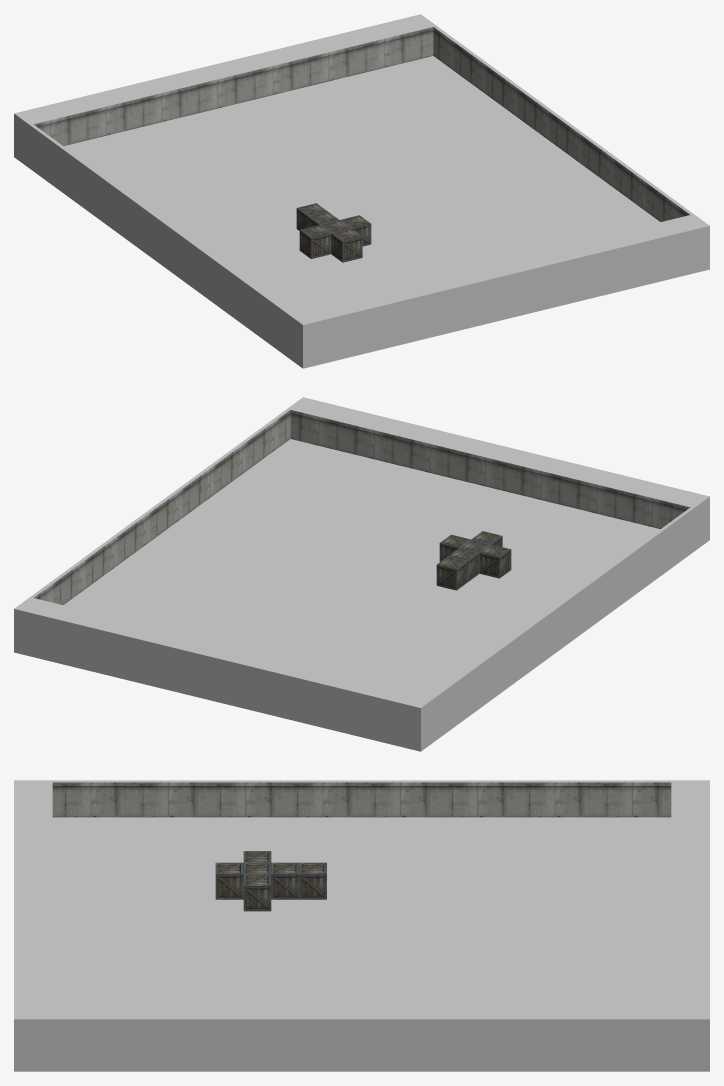
Rendered from map.obj.
3 views of the same model, one above another, from view 1: azimuth 30°, elevation 25°; view 2: azimuth 150°, elevation 25°; view 3: azimuth 270°, elevation 25° (orthographic). The views are drawn at different scales.
Visible parts, largest first — view 1: worldspawn_4541, worldspawn_4621, worldspawn_4600, worldspawn_4579, worldspawn_4593, worldspawn_3577, worldspawn_3591; view 2: worldspawn_4541, worldspawn_4600, worldspawn_4621, worldspawn_4579, worldspawn_4593, worldspawn_3577, worldspawn_3591; view 3: worldspawn_4541, worldspawn_4593, worldspawn_4579, worldspawn_4600, worldspawn_4621, worldspawn_3577, worldspawn_3584.
Part boxes in pixels (box(x1,y1,x2,y2)): worldspawn_4541: box(63, 56, 660, 312); worldspawn_4621: box(287, 214, 709, 368); worldspawn_4600: box(14, 14, 436, 168); worldspawn_4579: box(30, 124, 290, 356); worldspawn_4593: box(433, 26, 693, 221); worldspawn_3577: box(296, 203, 362, 262); worldspawn_3591: box(299, 225, 331, 258); worldspawn_4541: box(63, 439, 660, 695); worldspawn_4600: box(14, 597, 436, 751); worldspawn_4621: box(287, 397, 709, 551); worldspawn_4579: box(433, 507, 693, 739); worldspawn_4593: box(30, 409, 290, 604); worldspawn_3577: box(436, 531, 502, 590); worldspawn_3591: box(479, 544, 511, 578); worldspawn_4541: box(52, 817, 671, 1017); worldspawn_4593: box(52, 1017, 671, 1071); worldspawn_4579: box(52, 780, 671, 817); worldspawn_4600: box(671, 780, 709, 1071); worldspawn_4621: box(14, 780, 52, 1071); worldspawn_3577: box(215, 862, 326, 899); worldspawn_3584: box(243, 874, 271, 911).
Bounding box in the file's own units: 18.72 × 1.92 × 23.04.
Materials: 4 (2 with a texture image).
